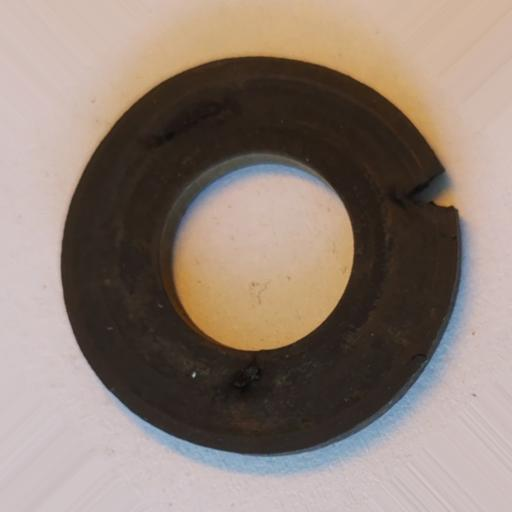defect: (399, 165, 458, 210)
